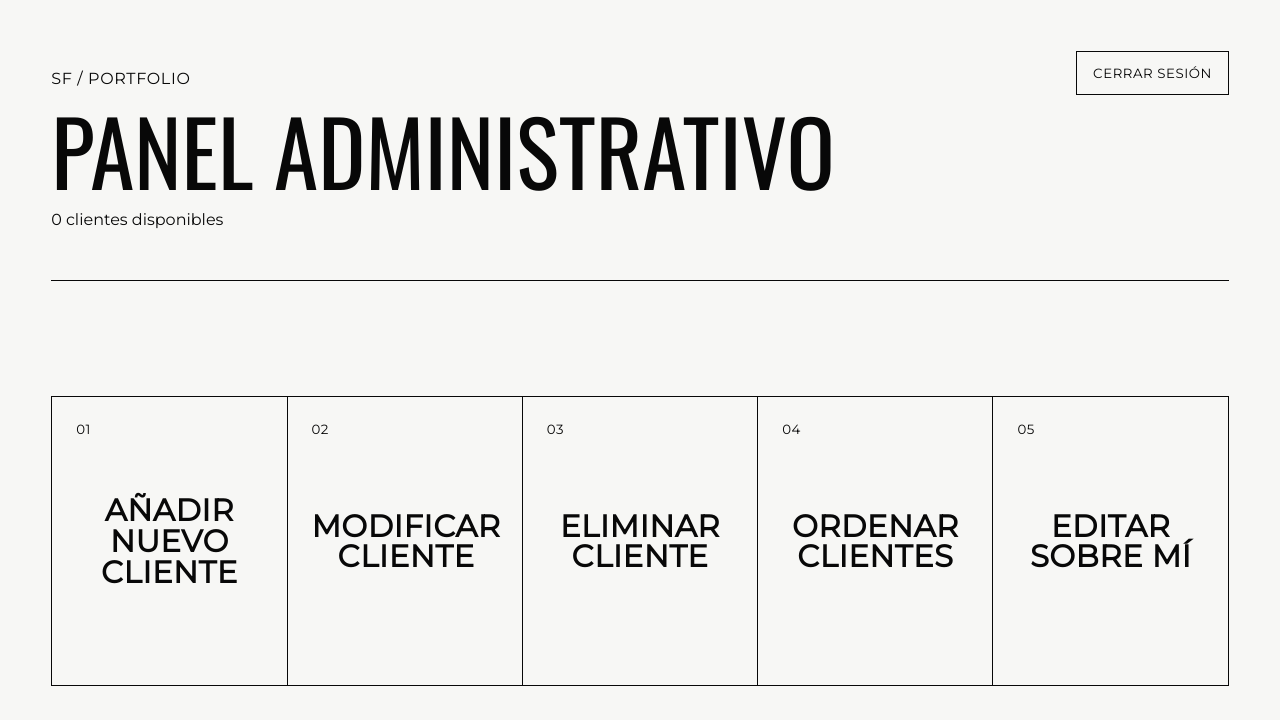
private portfolio admin › logs out and returns to login without leaving the dashboard visible
This screenshot has width=1280, height=720.
What coordinates should you click on to do the following:
click the button "Cerrar sesión"
I would click on:
 (1152, 73)
Its box is [1076,51,1229,95].
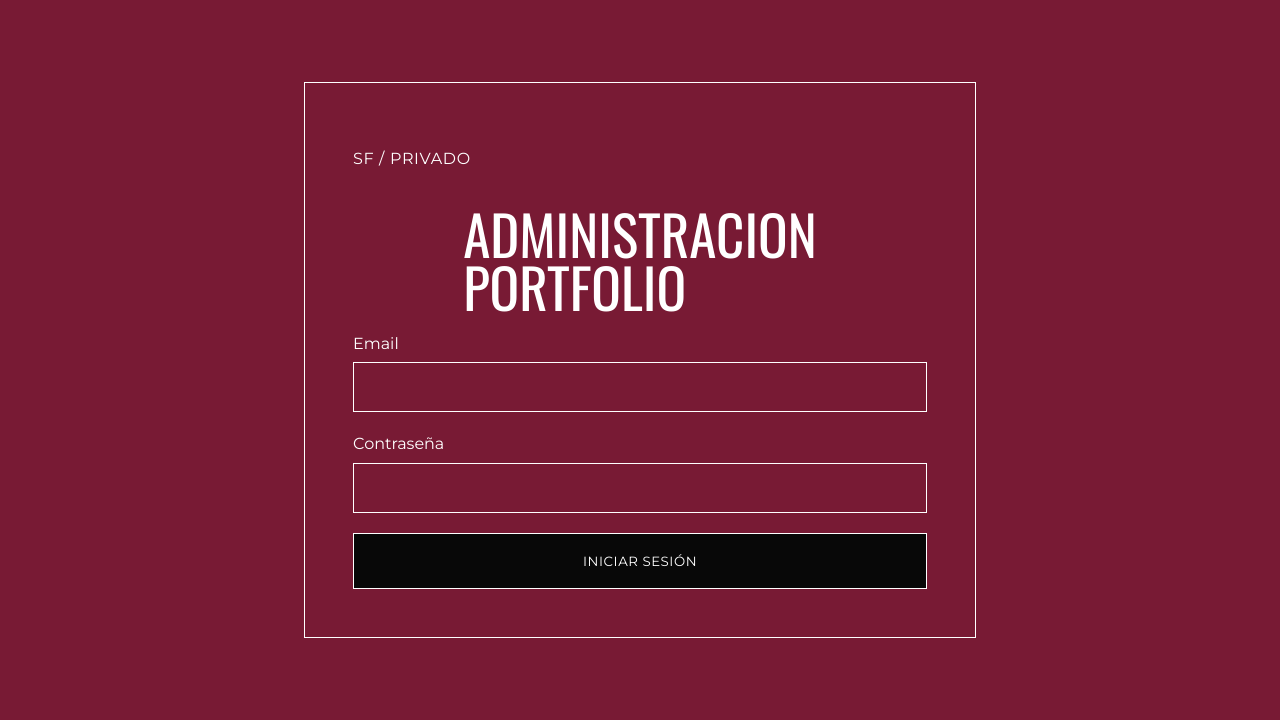
Check: the heading named "Administración portfolio" is shown, box [463,207,817,312]
Check: the button "Añadir nuevo cliente" is gone
